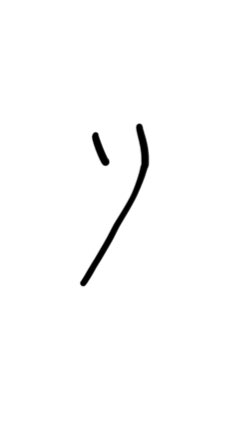so: (61, 118, 155, 298)
